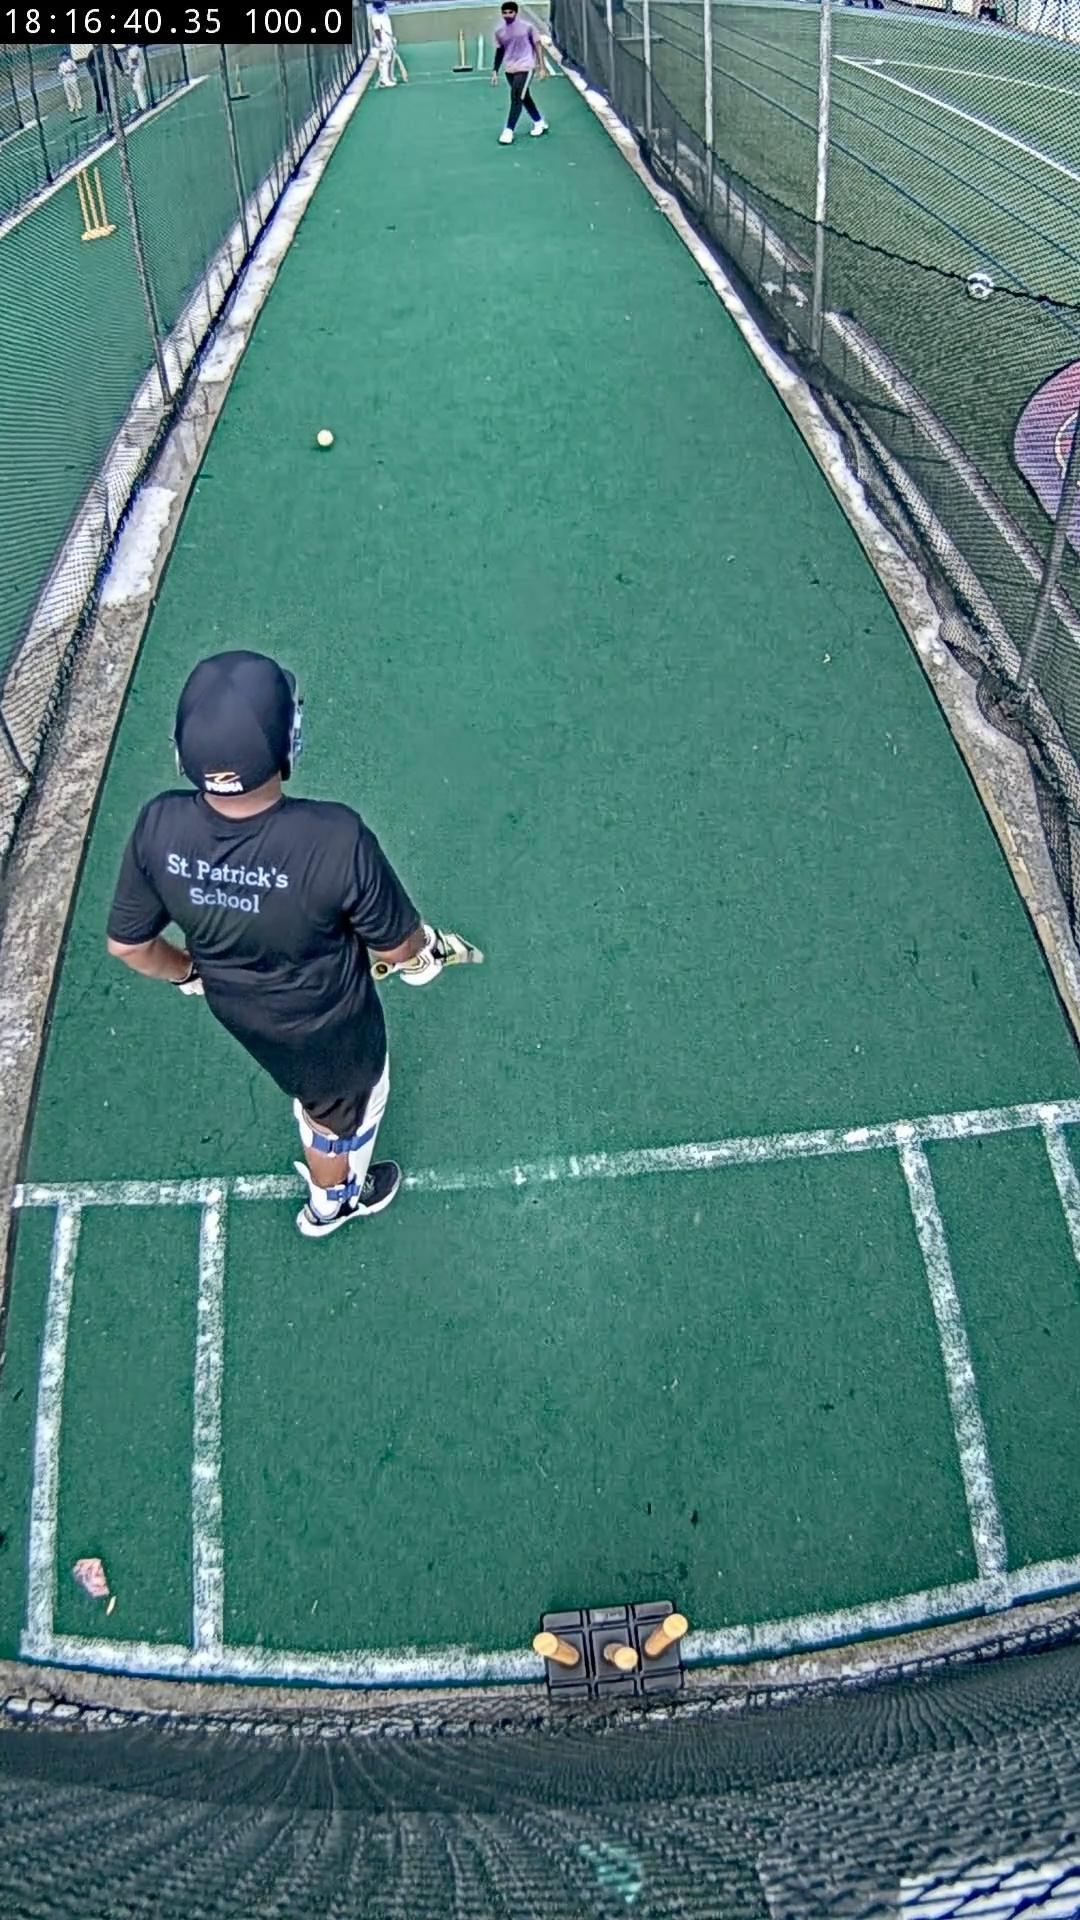ball: (315, 427, 334, 450)
helmet: (177, 649, 297, 795)
stumps: (537, 1597, 686, 1702)
